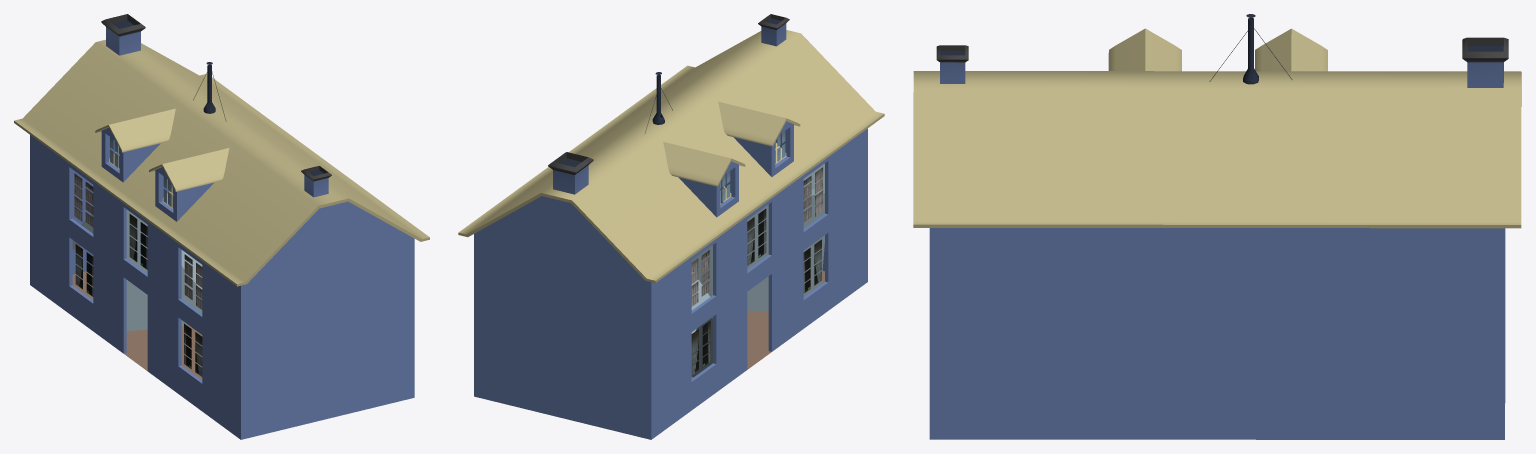
The model's file is HouseARoot.fbx.
The picture shows the model from 3 angles, left to right: view 1: azimuth 30°, elevation 25°; view 2: azimuth 150°, elevation 25°; view 3: azimuth 270°, elevation 25°; orthographic projection. The views are drawn at different scales.
Visible parts, largest first — view 1: Body_sh_7, Body_sh_13, Body_sh_15, Body_sh_9, Body_sh_11, Body_sh_10, Body_sh_6, Body_sh_14, Body_sh_8, Body_sh_22, Body_sh_17, Body_sh_12 (+3 smaller); view 2: Body_sh_6, Body_sh_9, Body_sh_13, Body_sh_8, Body_sh_10, Body_sh_12, Body_sh_15, Body_sh_7, Body_sh_14, Body_sh_22, Body_sh_16, Body_sh_24 (+3 smaller); view 3: Body_sh_12, Body_sh_11, Body_sh_14, Body_sh_7, Body_sh_9, Body_sh_13, Body_sh_8, Body_sh_15, Body_sh_22, Body_sh_24, Body_sh_16, Body_sh_21 (+1 smaller).
Boxes of the visible parts, left/top/right/bottom form: Body_sh_7: left=197, top=303, right=414, bottom=439; Body_sh_13: left=91, top=176, right=206, bottom=407; Body_sh_15: left=207, top=175, right=357, bottom=327; Body_sh_9: left=55, top=39, right=235, bottom=180; Body_sh_11: left=319, top=182, right=429, bottom=334; Body_sh_10: left=98, top=110, right=240, bottom=302; Body_sh_6: left=14, top=85, right=100, bottom=274; Body_sh_14: left=209, top=105, right=354, bottom=192; Body_sh_8: left=30, top=242, right=96, bottom=333; Body_sh_22: left=149, top=148, right=227, bottom=221; Body_sh_17: left=108, top=124, right=172, bottom=182; Body_sh_12: left=176, top=62, right=325, bottom=161; Body_sh_6: left=537, top=224, right=735, bottom=429; Body_sh_9: left=492, top=120, right=736, bottom=249; Body_sh_13: left=706, top=189, right=833, bottom=389; Body_sh_8: left=474, top=304, right=719, bottom=439; Body_sh_10: left=660, top=100, right=857, bottom=217; Body_sh_12: left=458, top=130, right=622, bottom=362; Body_sh_15: left=717, top=30, right=884, bottom=192; Body_sh_7: left=712, top=167, right=867, bottom=314; Body_sh_14: left=580, top=50, right=771, bottom=146; Body_sh_22: left=719, top=102, right=800, bottom=176; Body_sh_16: left=663, top=142, right=731, bottom=217; Body_sh_24: left=548, top=152, right=593, bottom=194; Body_sh_12: left=1160, top=117, right=1521, bottom=439; Body_sh_11: left=913, top=106, right=1160, bottom=353; Body_sh_14: left=995, top=71, right=1261, bottom=291; Body_sh_7: left=929, top=311, right=1170, bottom=439; Body_sh_9: left=1257, top=71, right=1521, bottom=176; Body_sh_13: left=1148, top=298, right=1220, bottom=439; Body_sh_8: left=1321, top=288, right=1505, bottom=439; Body_sh_15: left=913, top=71, right=1025, bottom=132; Body_sh_22: left=1108, top=28, right=1181, bottom=71; Body_sh_24: left=1462, top=37, right=1508, bottom=87; Body_sh_16: left=1273, top=29, right=1327, bottom=71; Body_sh_21: left=936, top=45, right=968, bottom=83.
Bounding box in the file's own units: 569 × 756 × 1138.
